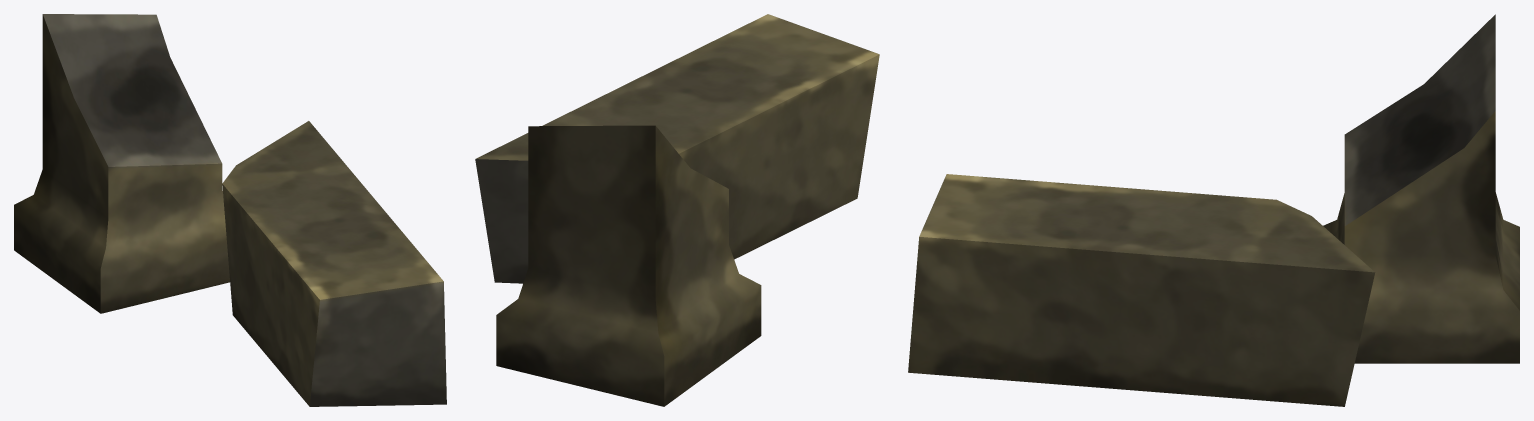
The model's file is BrokeColumn1a.fbx.
3 renders of one model, left to right at view 1: azimuth 30°, elevation 25°; view 2: azimuth 150°, elevation 25°; view 3: azimuth 270°, elevation 25°, orthographic. The views are drawn at different scales.
Parts seen in each view (by area): view 1: polySurface1; view 2: polySurface1; view 3: polySurface1.
Boxes of the visible parts, x1=… form: polySurface1: x1=14, y1=14, x2=446, y2=406; polySurface1: x1=475, y1=14, x2=879, y2=406; polySurface1: x1=908, y1=14, x2=1519, y2=406.
Size of the model in its own units: 1.02 by 1.01 by 2.02.
